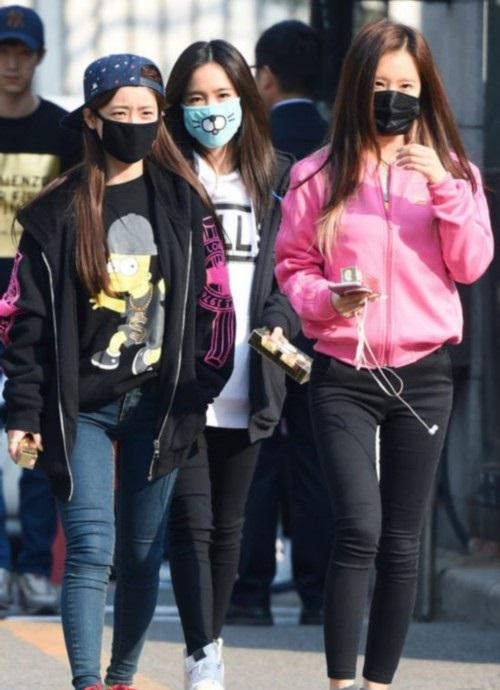NONE: (1, 46, 42, 93)
OK: (179, 83, 245, 149), (103, 98, 166, 161), (362, 73, 423, 134)
